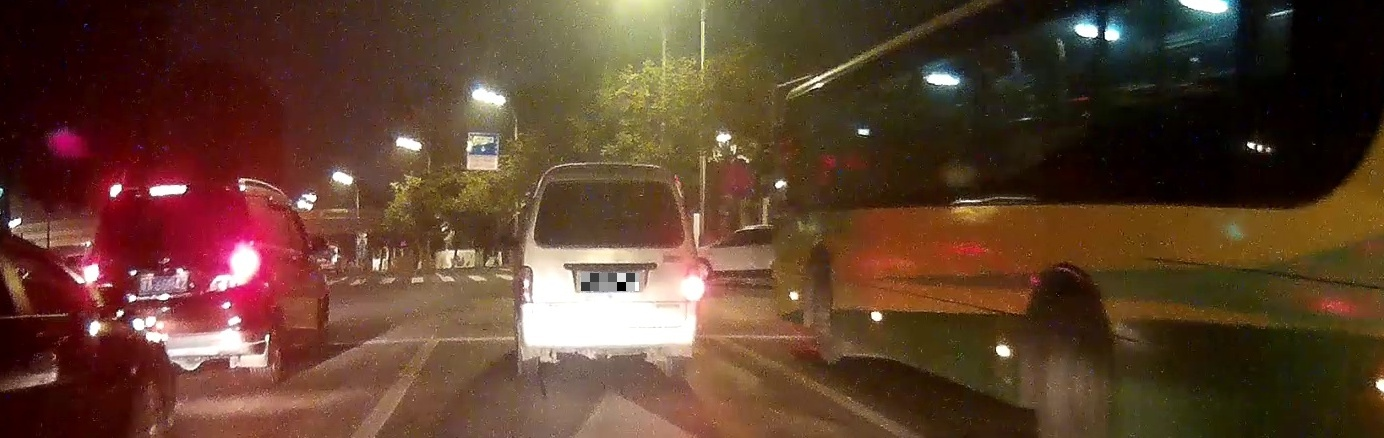L_light: (80, 255, 119, 288), (516, 266, 533, 303)
R_light: (214, 253, 262, 291), (685, 265, 701, 301)
T_light: (150, 183, 188, 197), (594, 179, 624, 186)
night-brake: (81, 181, 267, 387)
night-right: (516, 162, 705, 375)
plate_1: (581, 273, 639, 291)
